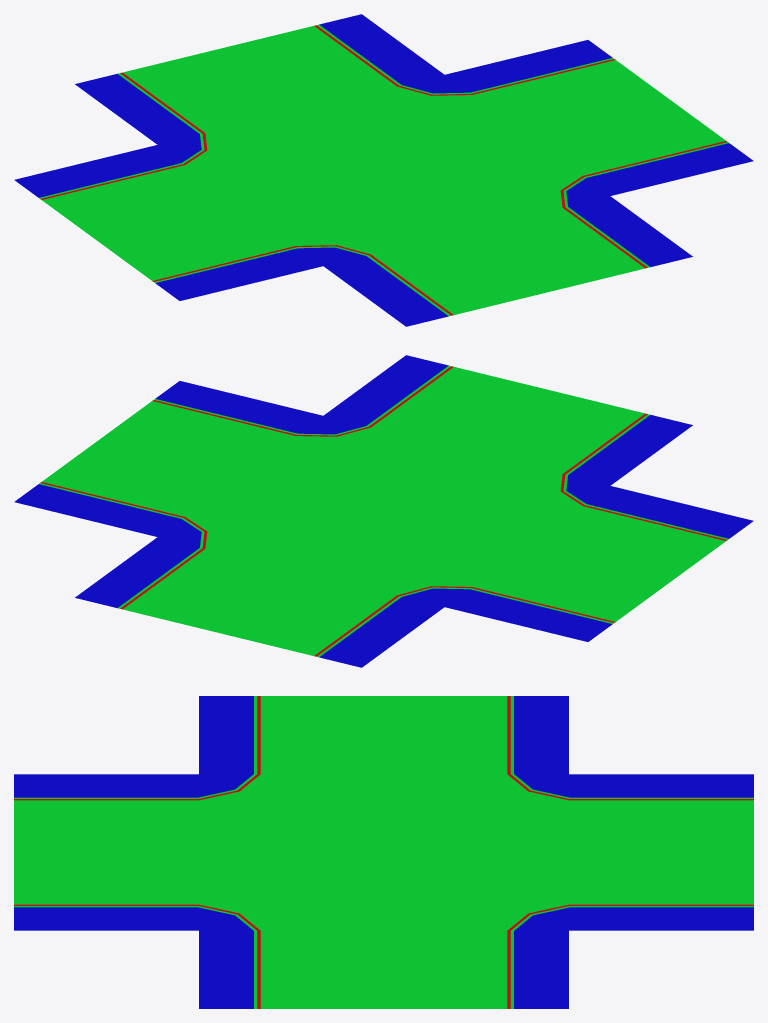
The model's file is wide_4way.fbx.
3 views of the same model, one above another, from view 1: azimuth 30°, elevation 25°; view 2: azimuth 150°, elevation 25°; view 3: azimuth 270°, elevation 25° (orthographic). The views are drawn at different scales.
Visible parts, largest first — view 1: Plane.075; view 2: Plane.075; view 3: Plane.075.
Part boxes in pixels (left/top/right/bottom): Plane.075: left=14, top=14, right=753, bottom=326; Plane.075: left=14, top=355, right=753, bottom=667; Plane.075: left=14, top=696, right=753, bottom=1008.
Size of the model in its own units: 1200 by 0.000196 by 1200.
